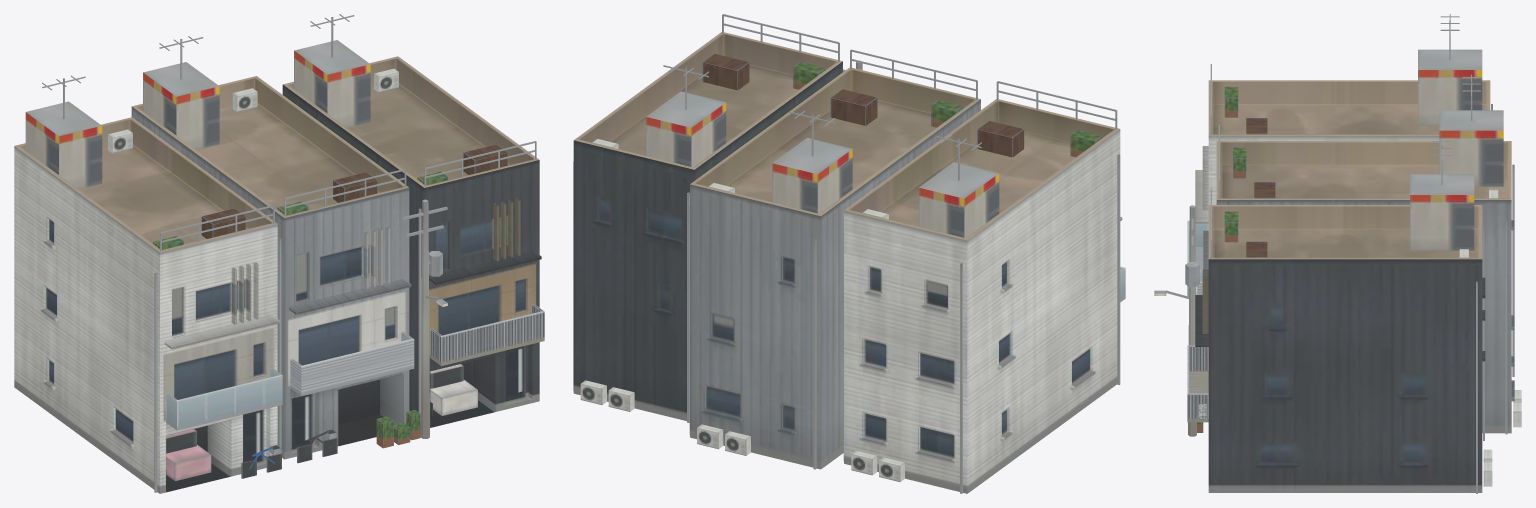
The model's file is tokyo_house_c.glb.
3 views of the same model, side by side, from view 1: azimuth 30°, elevation 25°; view 2: azimuth 150°, elevation 25°; view 3: azimuth 270°, elevation 25° (orthographic). The views are drawn at different scales.
Parts seen in each view (by area): view 1: tokyo_house_c; view 2: tokyo_house_c; view 3: tokyo_house_c.
Boxes of the visible parts, <box> form: tokyo_house_c: <box>14,14,544,493</box>; tokyo_house_c: <box>573,14,1125,493</box>; tokyo_house_c: <box>1154,14,1521,493</box>.
Bounding box in the file's own units: 16.02 × 12.6 × 13.7.
Materials: 1 (1 with a texture image).
